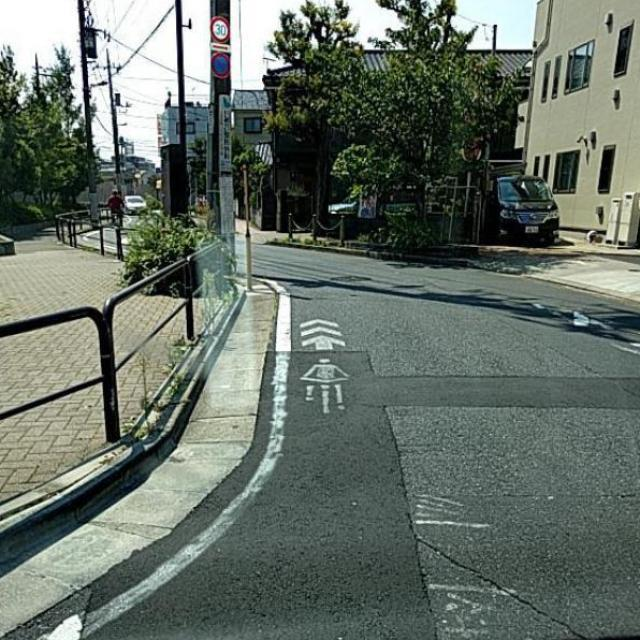Sambungan: (67, 349, 445, 640), (372, 374, 640, 413)
